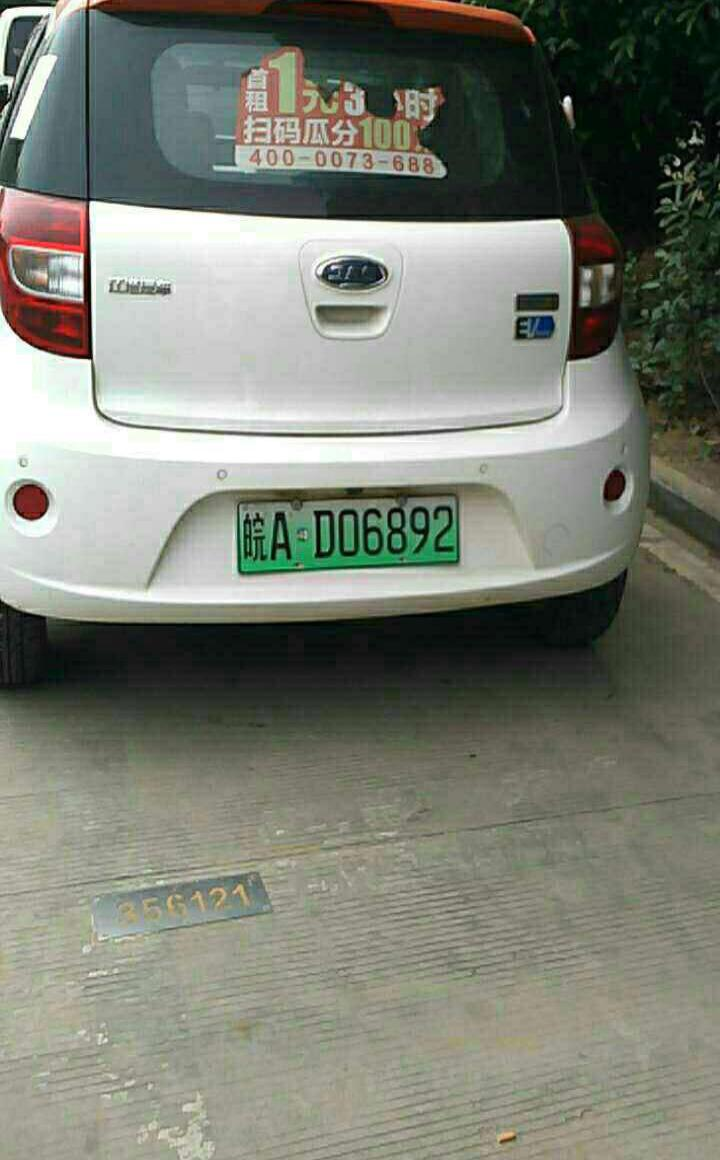car: (228, 496, 466, 571)
